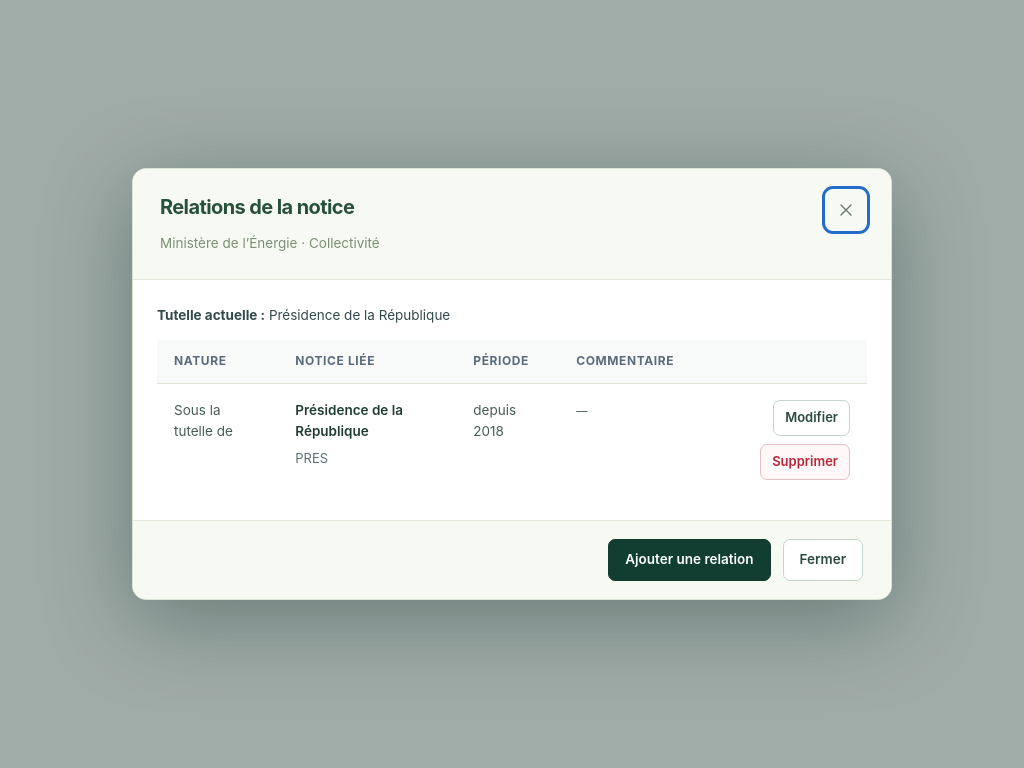
Test case: supprimer demande confirmation, envoie la version et prévient l’écran appelant
The image size is (1024, 768).
What coordinates should you click on to do the following:
click the button "Supprimer"
I would click on:
 (805, 462)
Its box is [760,444,850,480].
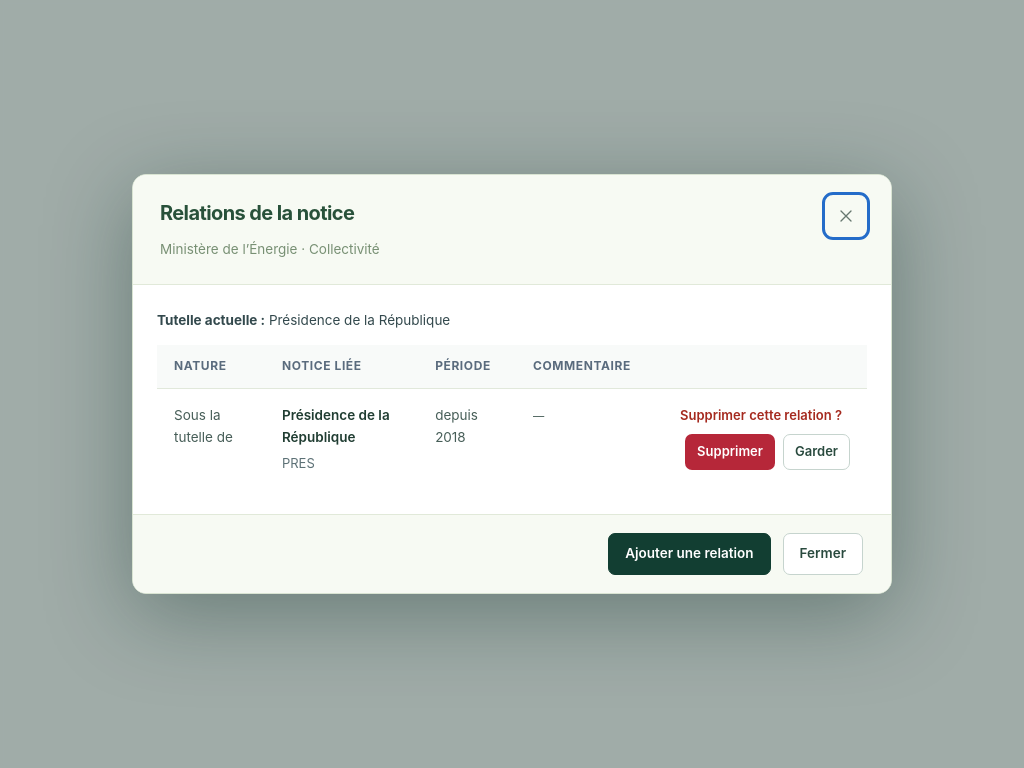
Expected: the text "Supprimer cette relation ?" is shown, [680,405,842,426]
What coordinates should you click on to do the following:
click the button "Garder"
I would click on:
 (816, 452)
Its box is [783,434,850,470].
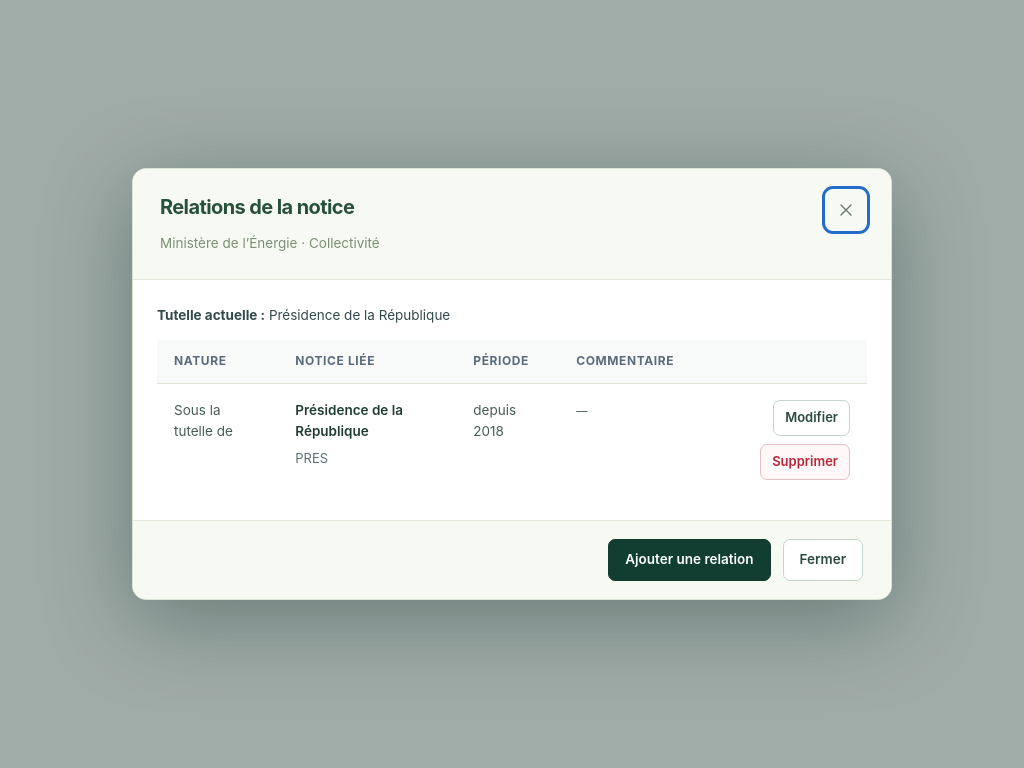
Expected: the text "Supprimer cette relation ?" is gone
What coordinates should you click on to do the following:
click the button "Supprimer"
I would click on:
 (805, 462)
Its box is [760,444,850,480].
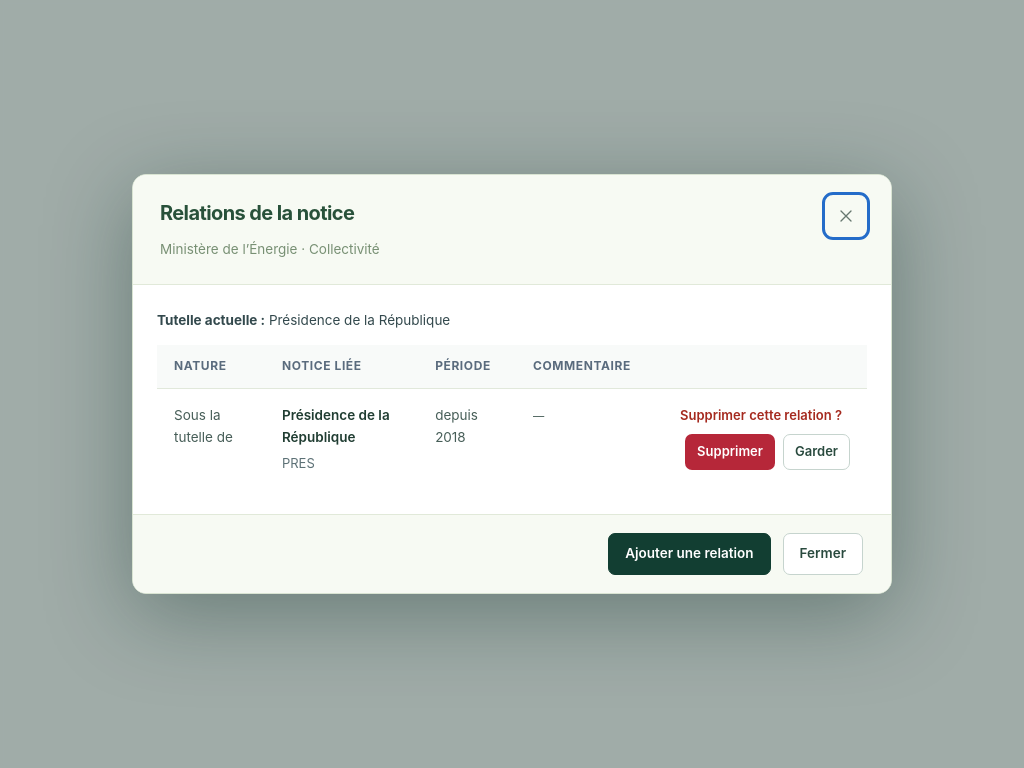
What coordinates should you click on to do the following:
click the button "Supprimer"
I would click on:
 (730, 452)
Its box is [685,434,775,470].
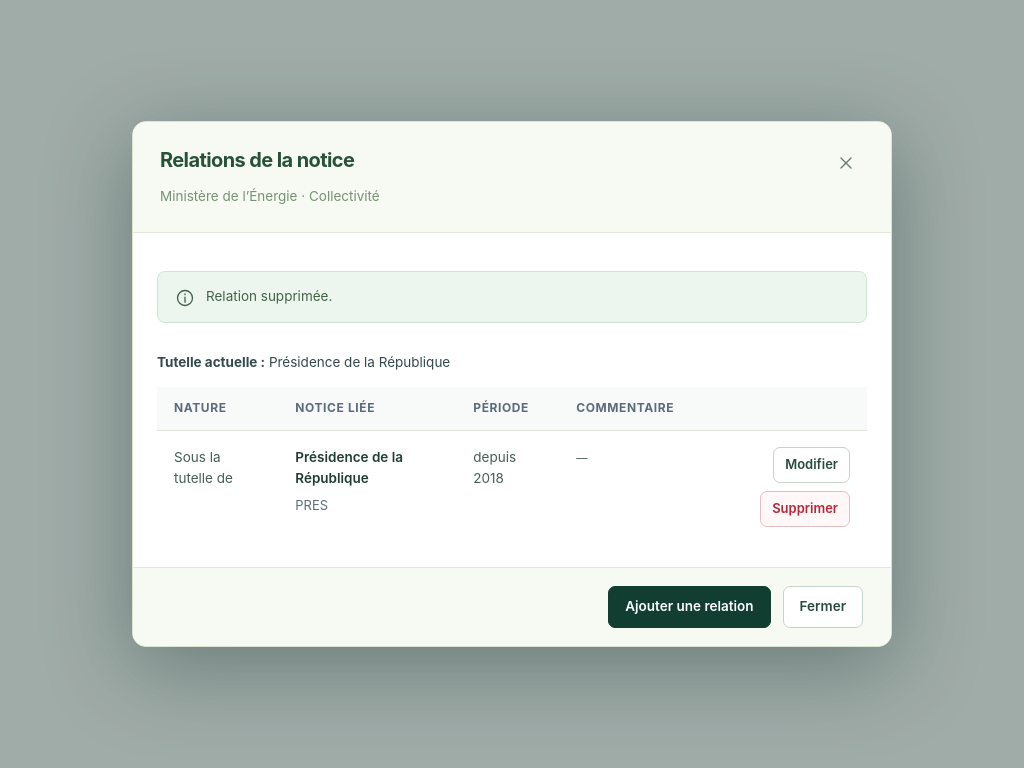
Expected: the text "Relation supprimée." is shown, [206,286,332,307]
